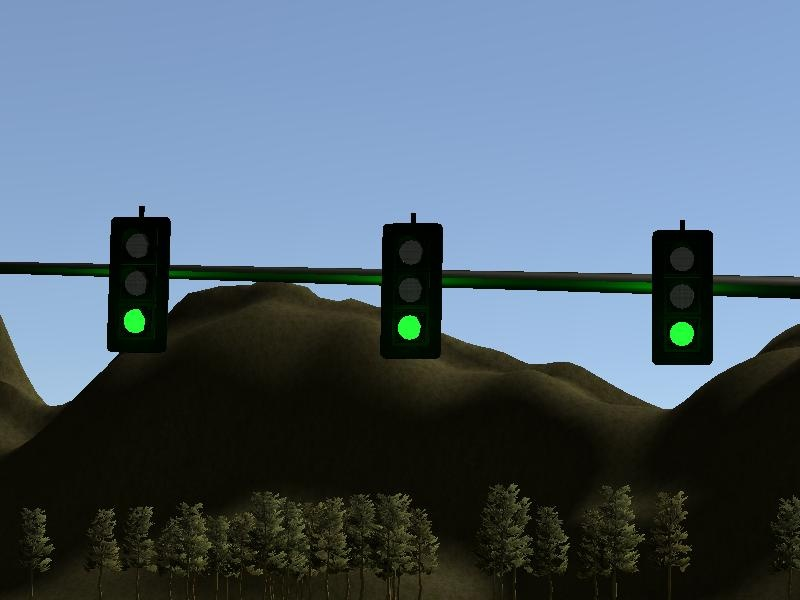Green: (648, 228, 717, 367), (380, 220, 443, 362), (106, 214, 168, 355)
